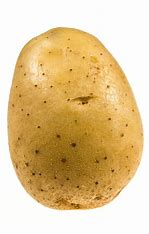Potato: (4, 23, 147, 212)
